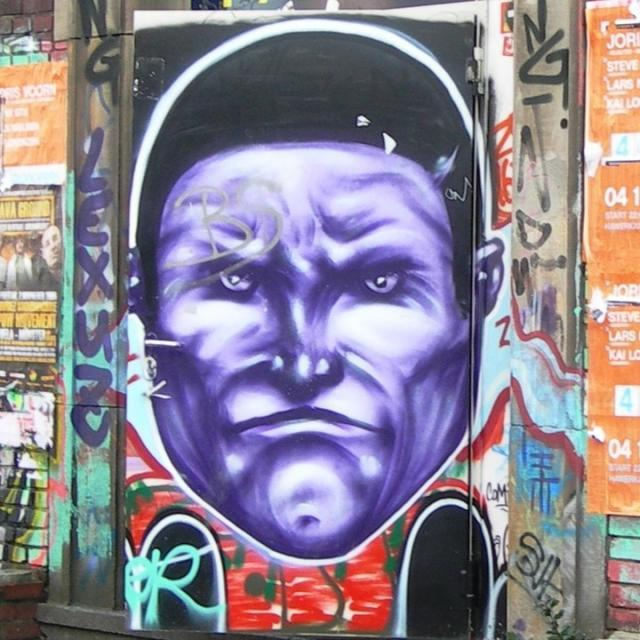-: (126, 18, 494, 566), (70, 130, 118, 457), (512, 525, 562, 602)
